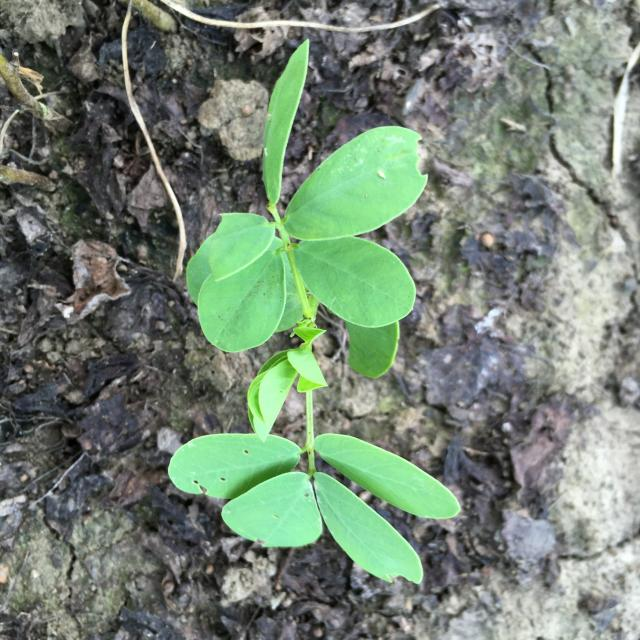Sicklepod: (168, 39, 462, 585)
